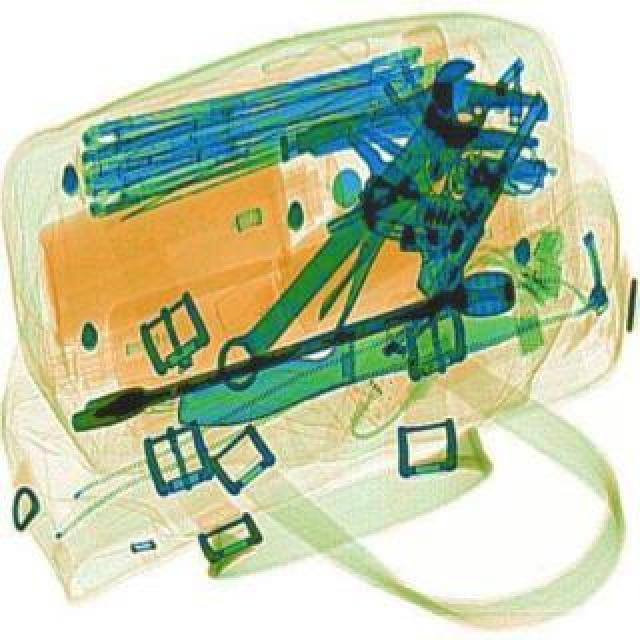gun: (328, 48, 552, 304)
knife: (164, 278, 546, 434)
scissors: (196, 46, 512, 406)
